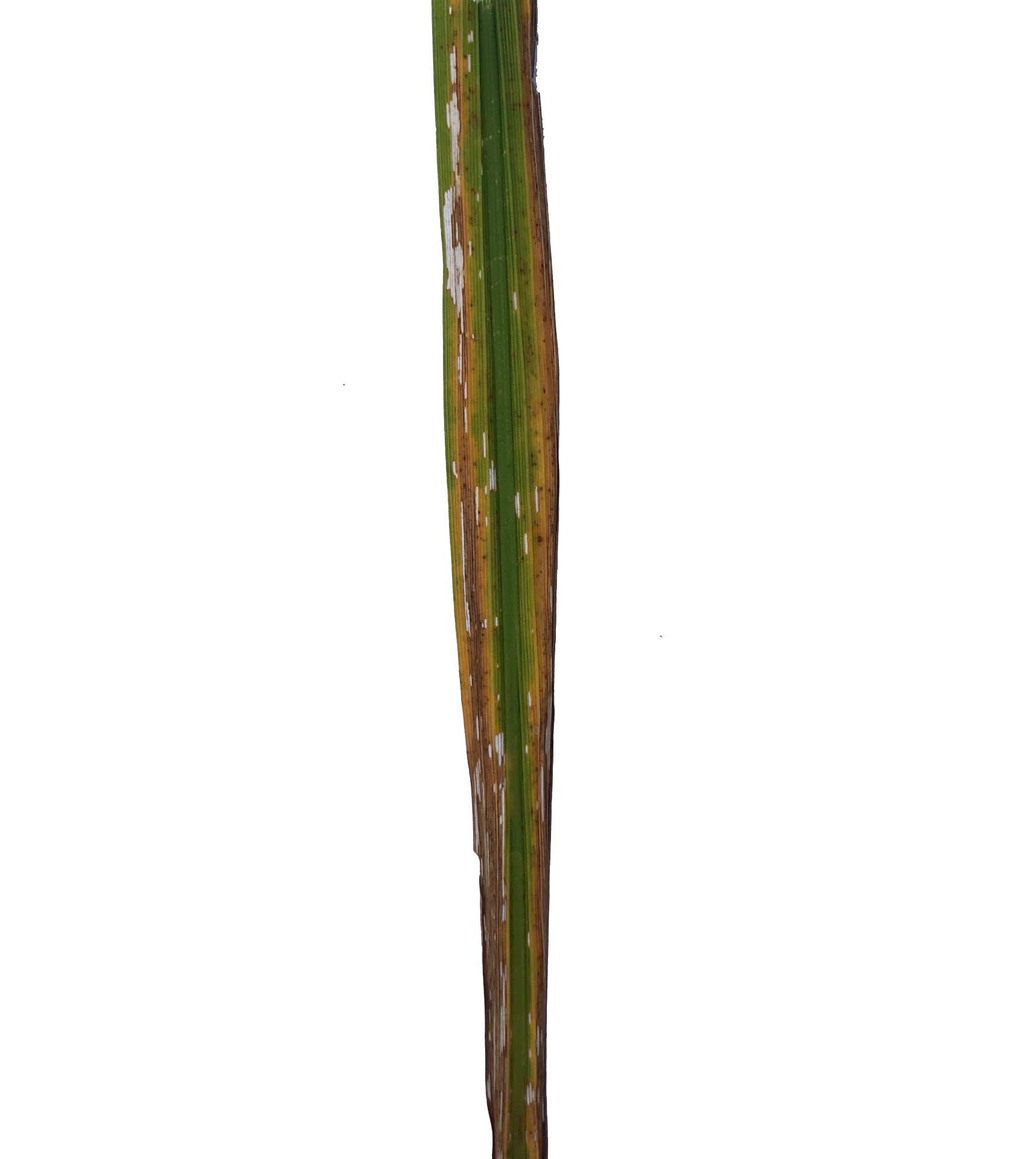Rice blast: (431, 0, 561, 1159)
